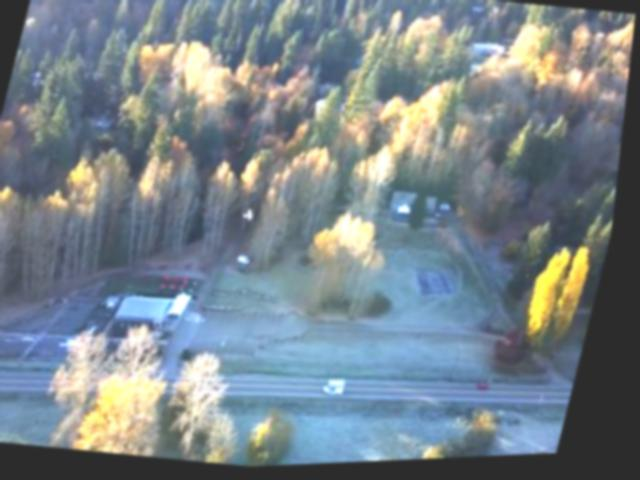uav: (240, 201, 268, 231)
